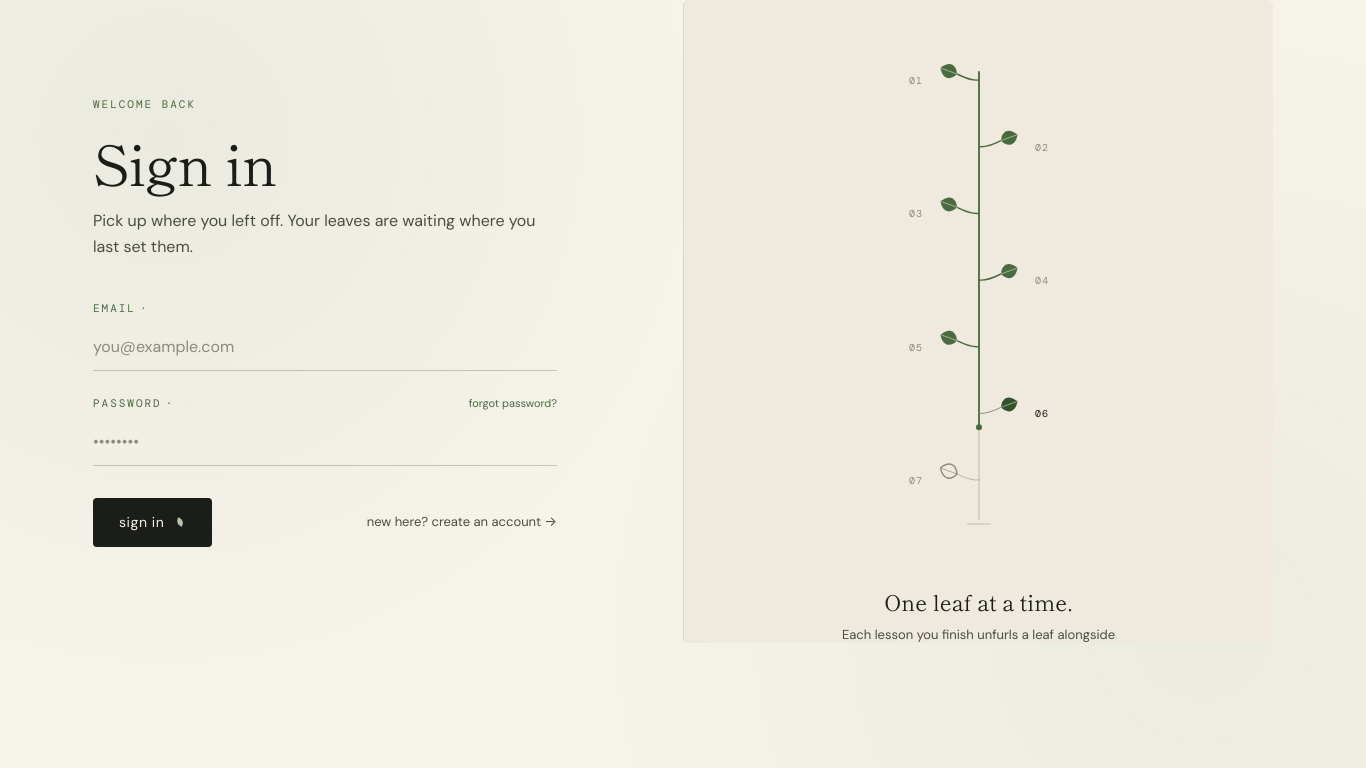
Scenario: Login › shows error message from login result on failure
Type "user@test.com" into the field labelled "Email·" at [325, 348], box left=93, top=325, right=557, bottom=371
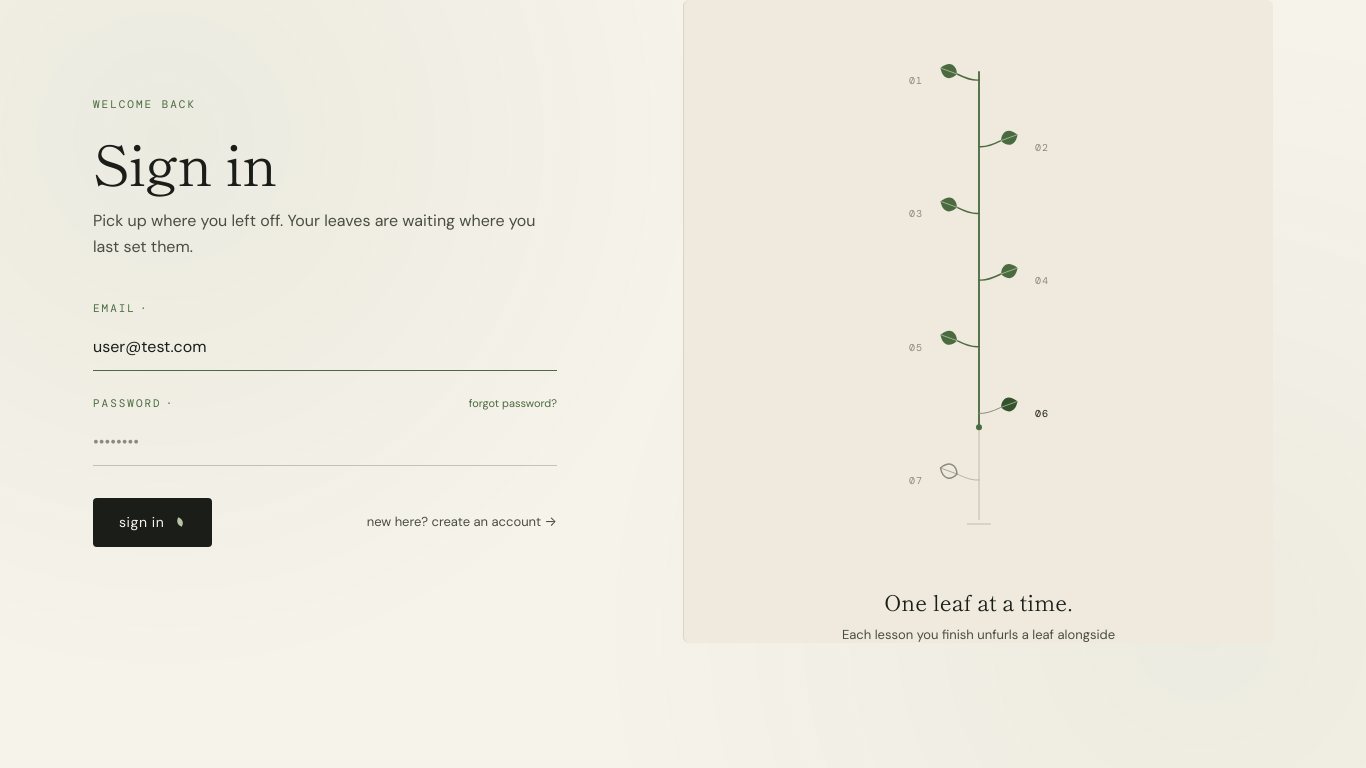
Type "wrongpass" into the password field labelled "Password· forgot password?" at [325, 443], box left=93, top=420, right=557, bottom=466
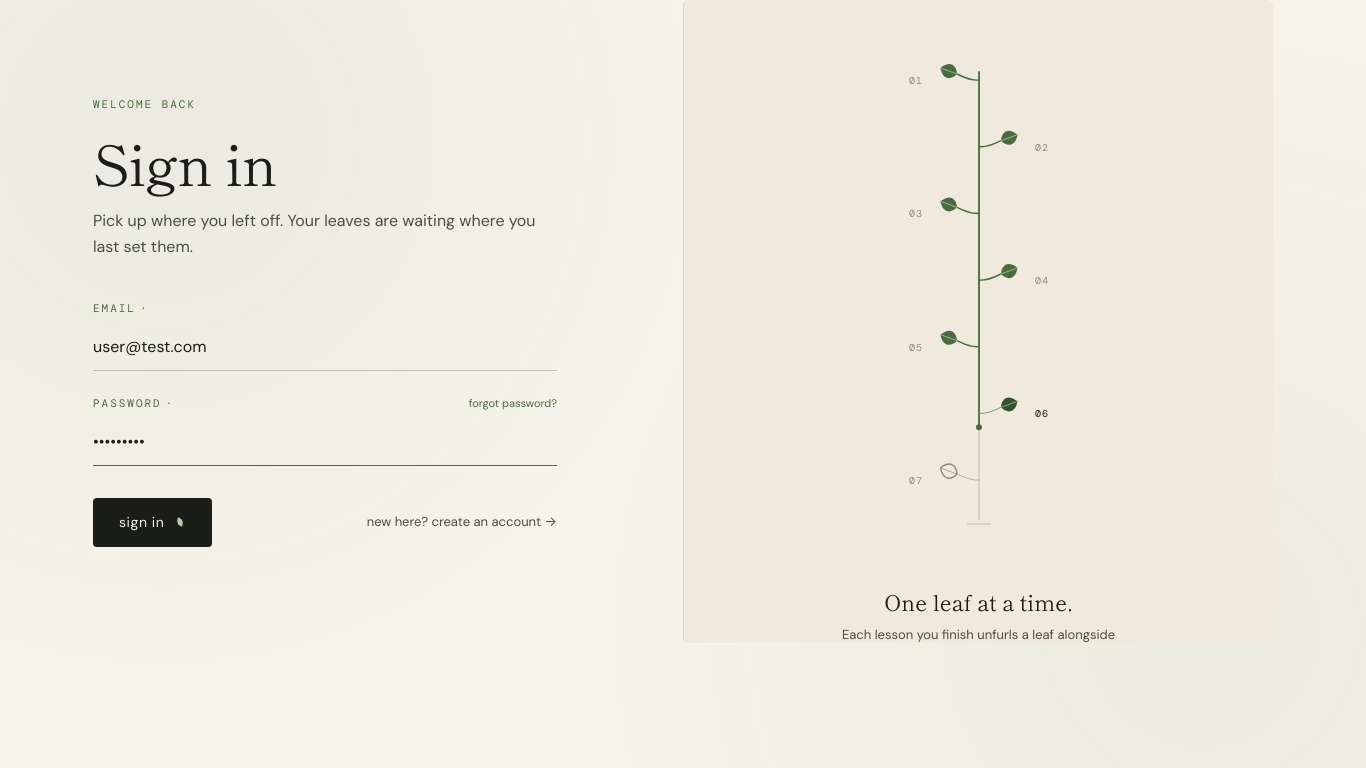
Click the button "sign in" at [153, 522], box left=93, top=498, right=212, bottom=547
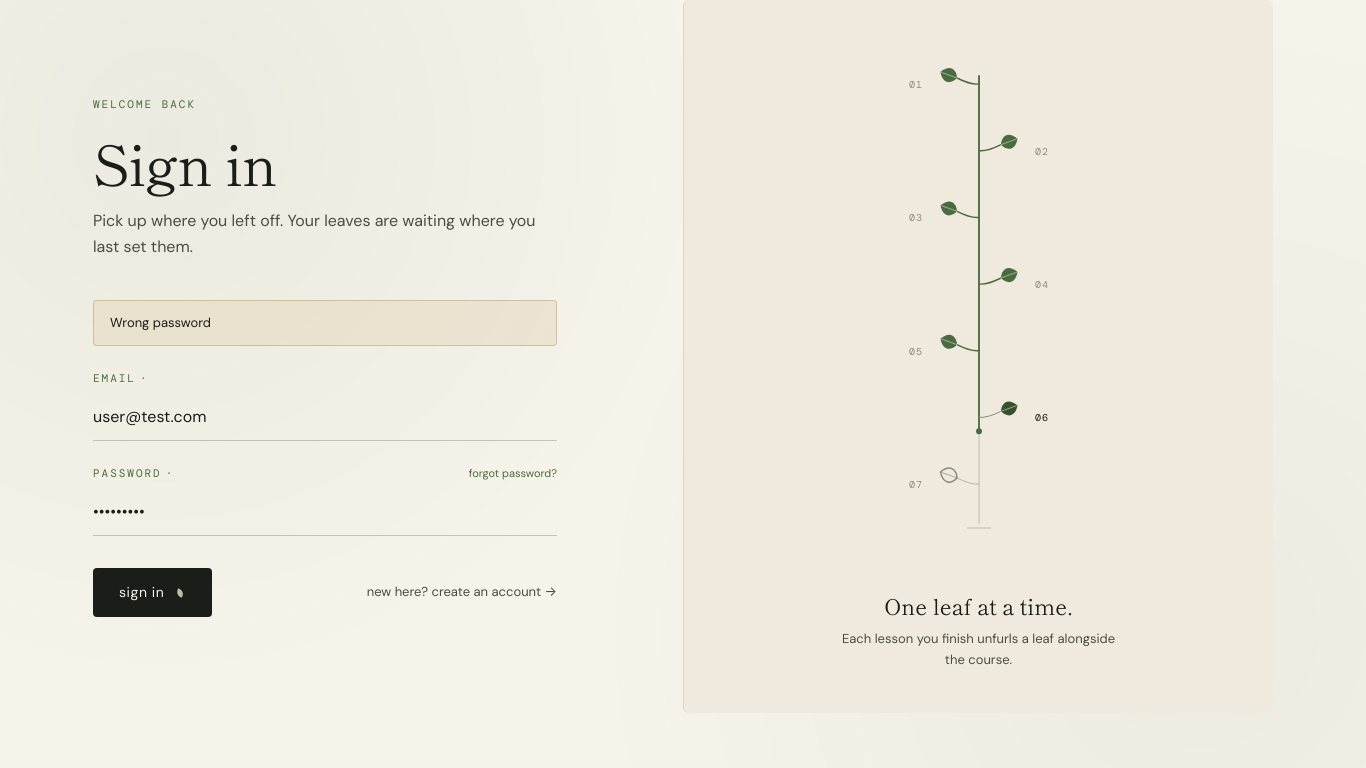
Expected: the message reads "Wrong password", left=110, top=314, right=211, bottom=331
